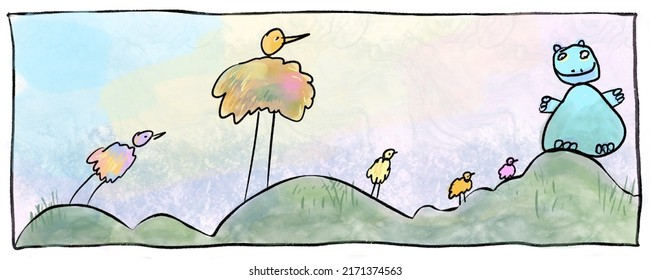bird: (210, 26, 317, 197), (65, 123, 168, 204), (362, 147, 399, 200), (446, 170, 477, 206), (497, 156, 522, 182)
